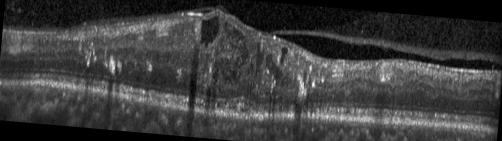intraretinal_cyst: (265, 52, 292, 86), (199, 15, 220, 47), (228, 39, 250, 62), (224, 20, 245, 39), (255, 41, 265, 77), (279, 46, 288, 63)
vitreomacular_traction: (269, 28, 502, 63), (87, 6, 216, 24)
